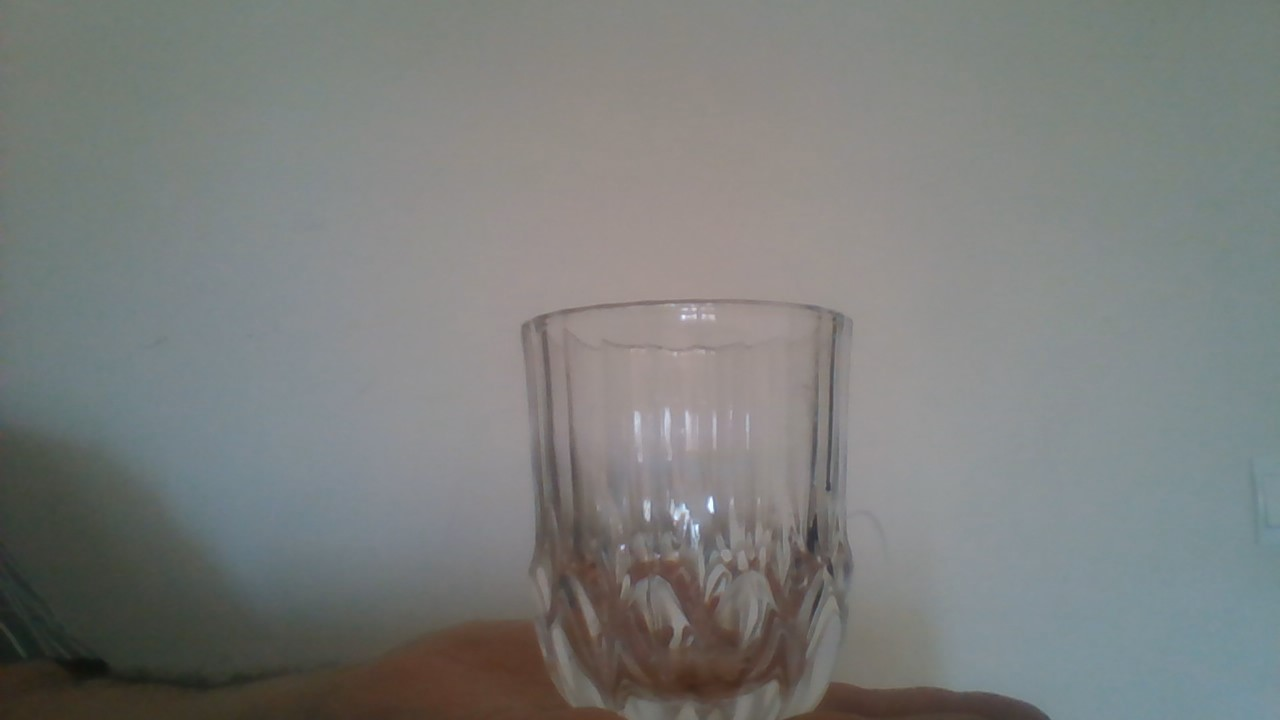glass: (516, 293, 867, 720)
